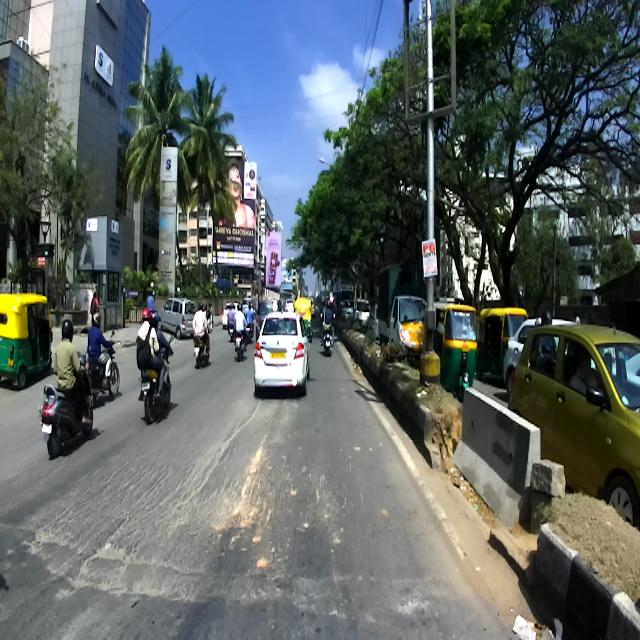car ahead at: (248, 310, 318, 407)
motorcycle ahead at: (38, 375, 94, 464), (136, 349, 180, 425)
